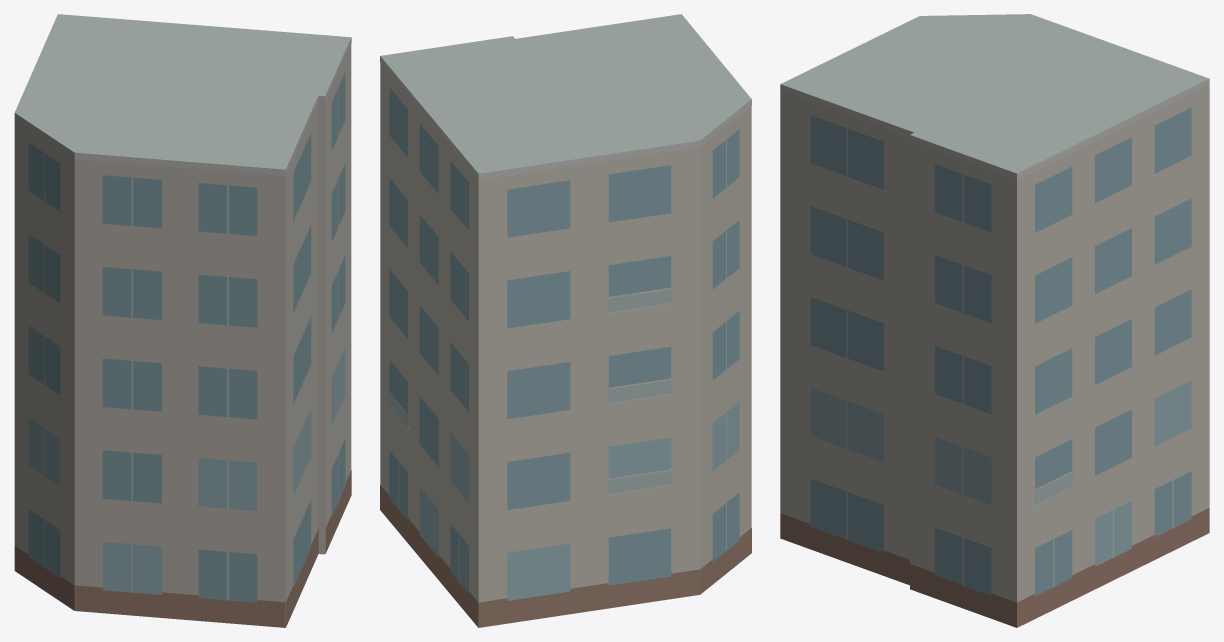
File: survey-upis-32947252.glb
3 renders of one model, left to right at view 1: azimuth 30°, elevation 25°; view 2: azimuth 150°, elevation 25°; view 3: azimuth 270°, elevation 25°, orthographic.
Visible parts, largest first — view 1: survey-upis-32947252.tmp; view 2: survey-upis-32947252.tmp; view 3: survey-upis-32947252.tmp.
Boxes of the visible parts, bbox=[...] form: survey-upis-32947252.tmp: bbox=[14, 14, 351, 627]; survey-upis-32947252.tmp: bbox=[380, 14, 751, 627]; survey-upis-32947252.tmp: bbox=[780, 14, 1209, 627].
Size of the model in its own units: 12.96 by 17.2 by 14.73.
